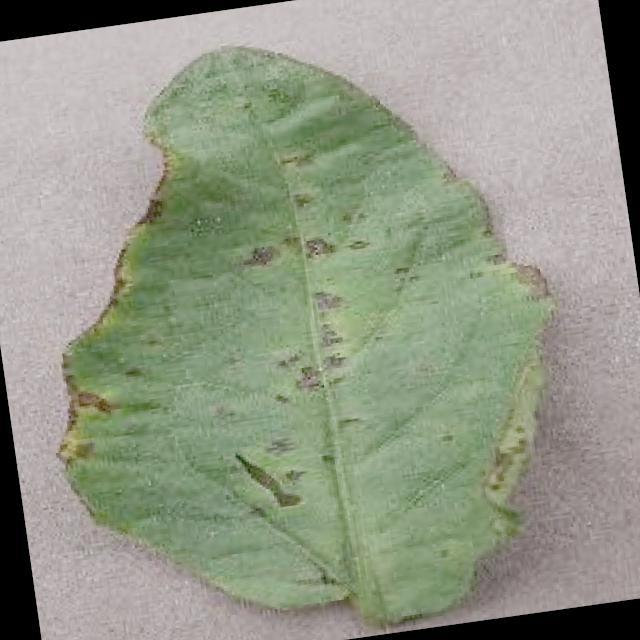Tomato bacterial spot leaf: (0, 0, 606, 640)
